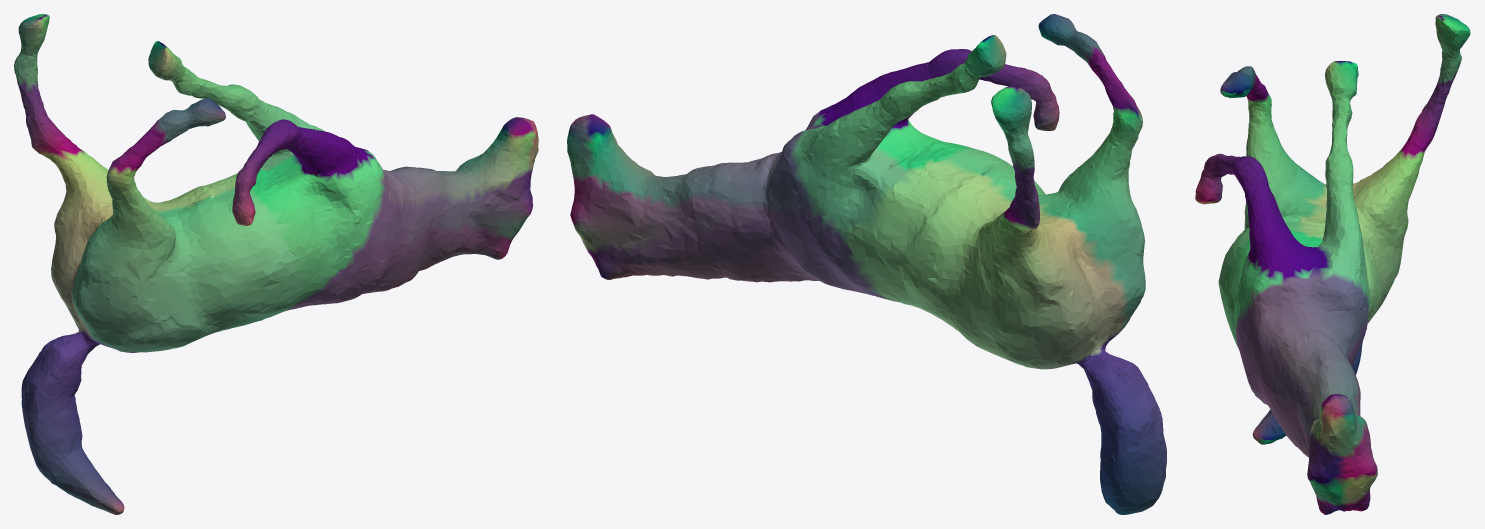
Rendered from horse-17.off.obj.
3 renders of one model, left to right at view 1: azimuth 30°, elevation 25°; view 2: azimuth 150°, elevation 25°; view 3: azimuth 270°, elevation 25°, orthographic. The views are drawn at different scales.
Size of the model in its own units: 1.49 by 1.18 by 0.6819.
